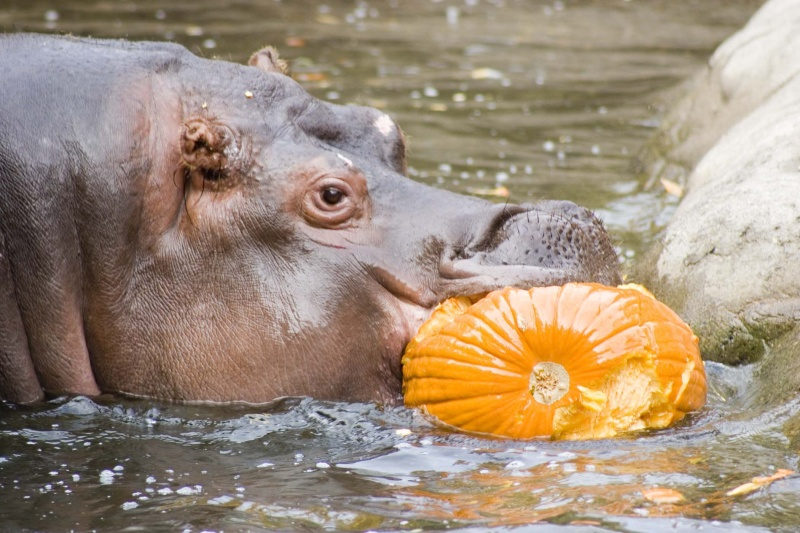hipopotamo: (0, 35, 648, 430)
